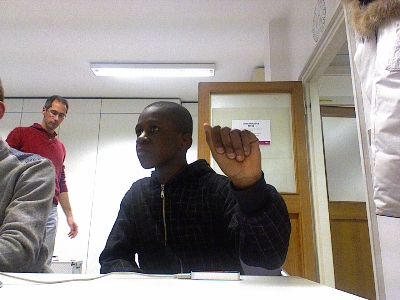石头: (200, 121, 263, 182)
